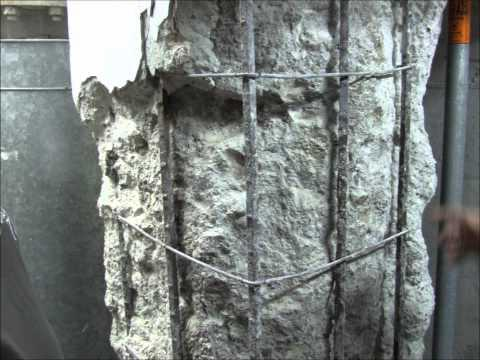exposed_rebar: (118, 1, 414, 338), (396, 0, 411, 231), (336, 0, 349, 258), (158, 88, 177, 246), (167, 251, 182, 359), (393, 236, 405, 359), (333, 264, 345, 359)
spalling: (76, 0, 452, 360)
